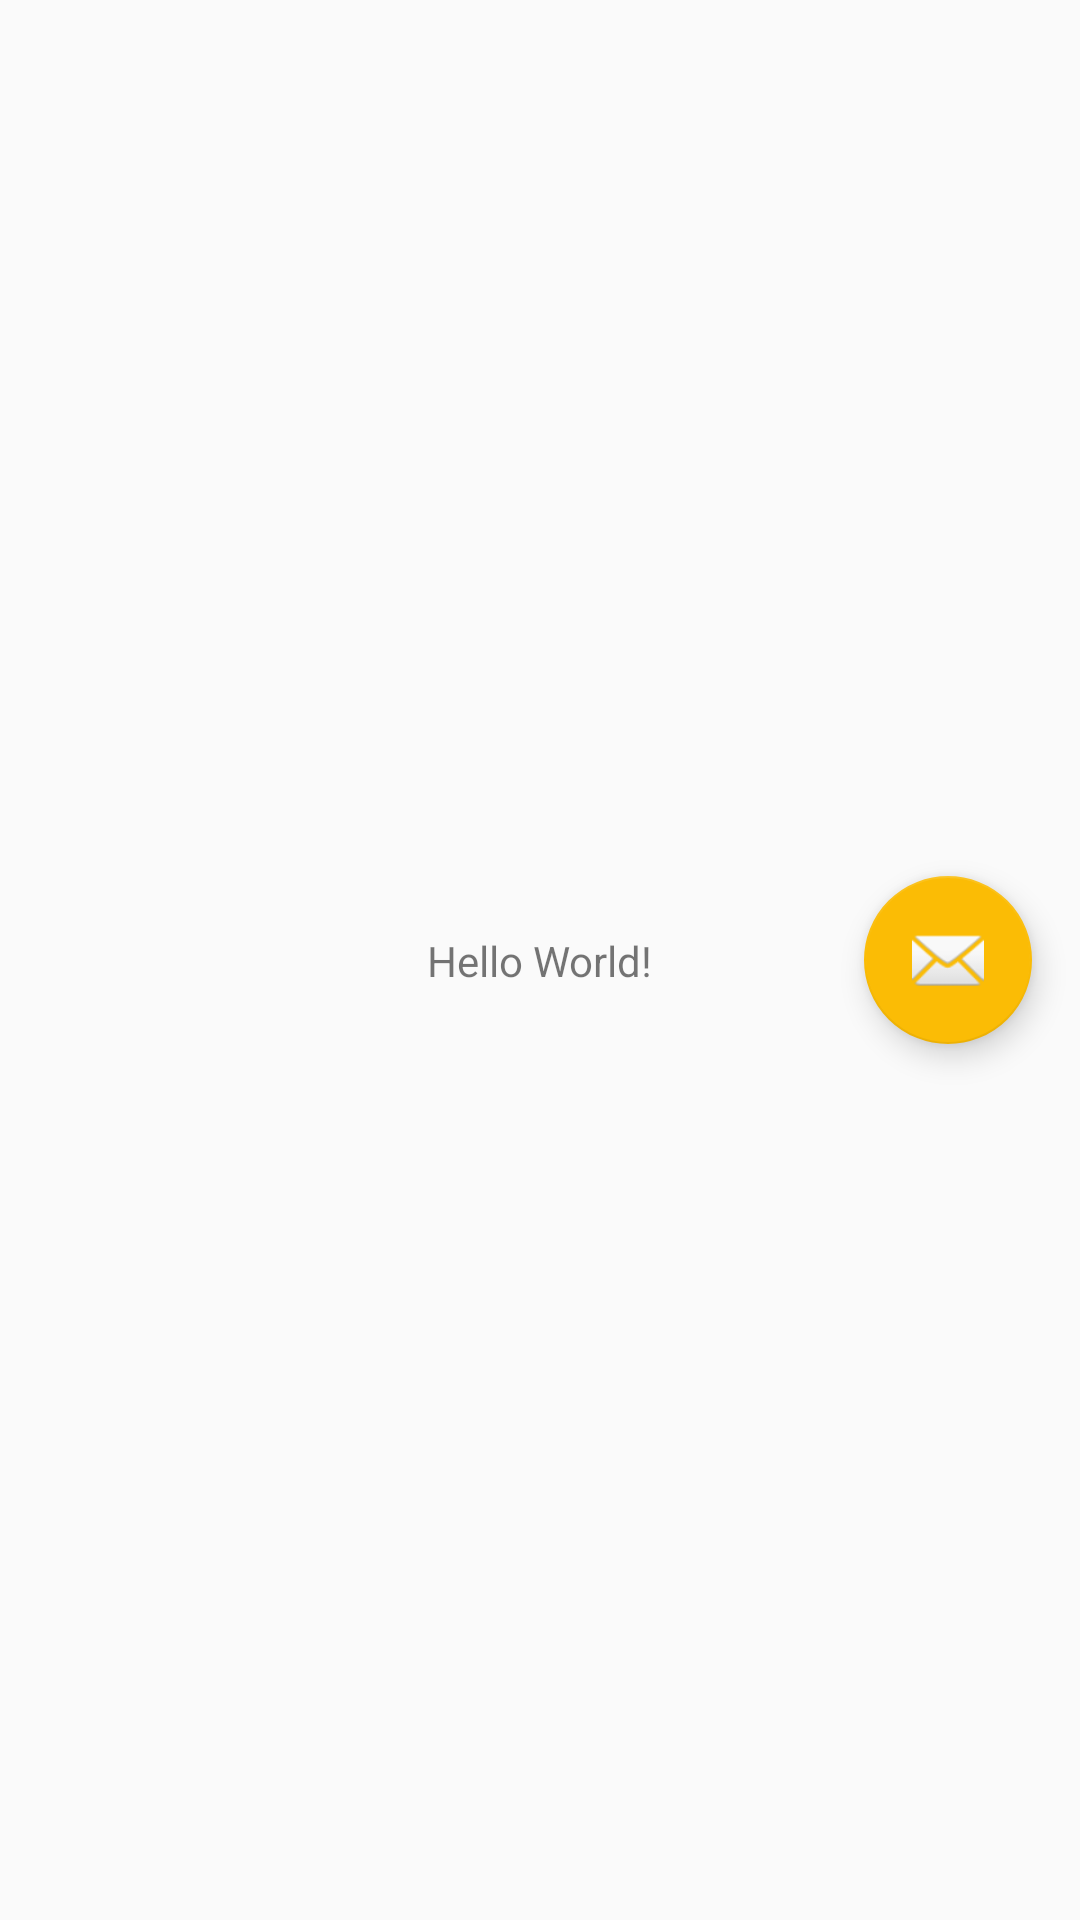

Screen size 1080 x 1920. Icon name, then its box in pixels as (x1, y1, x2, y2):
email: (864, 876, 1032, 1044)
